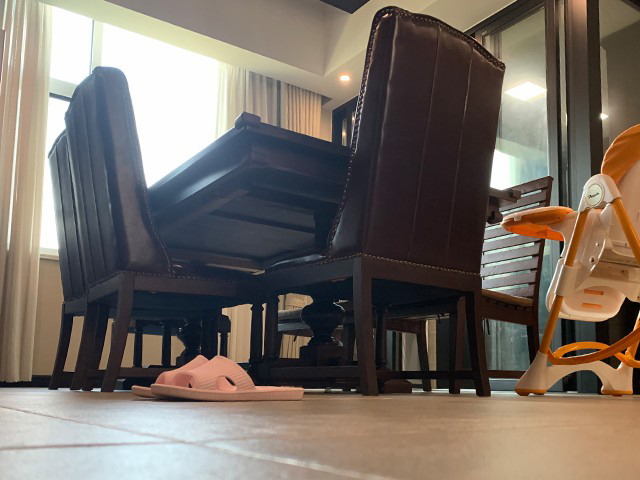curtain: (1, 1, 55, 382)
slippers: (131, 355, 305, 403)
stool: (254, 6, 507, 398), (63, 65, 240, 393), (46, 129, 173, 392), (420, 175, 557, 396)
